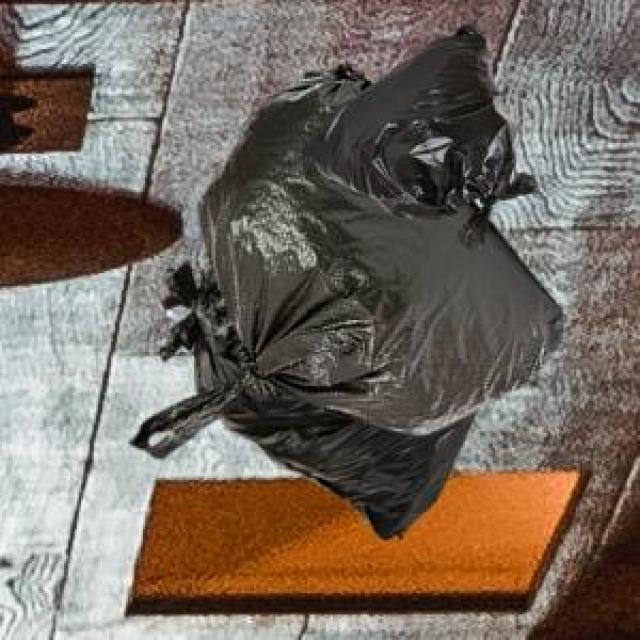waste: (132, 28, 559, 536)
